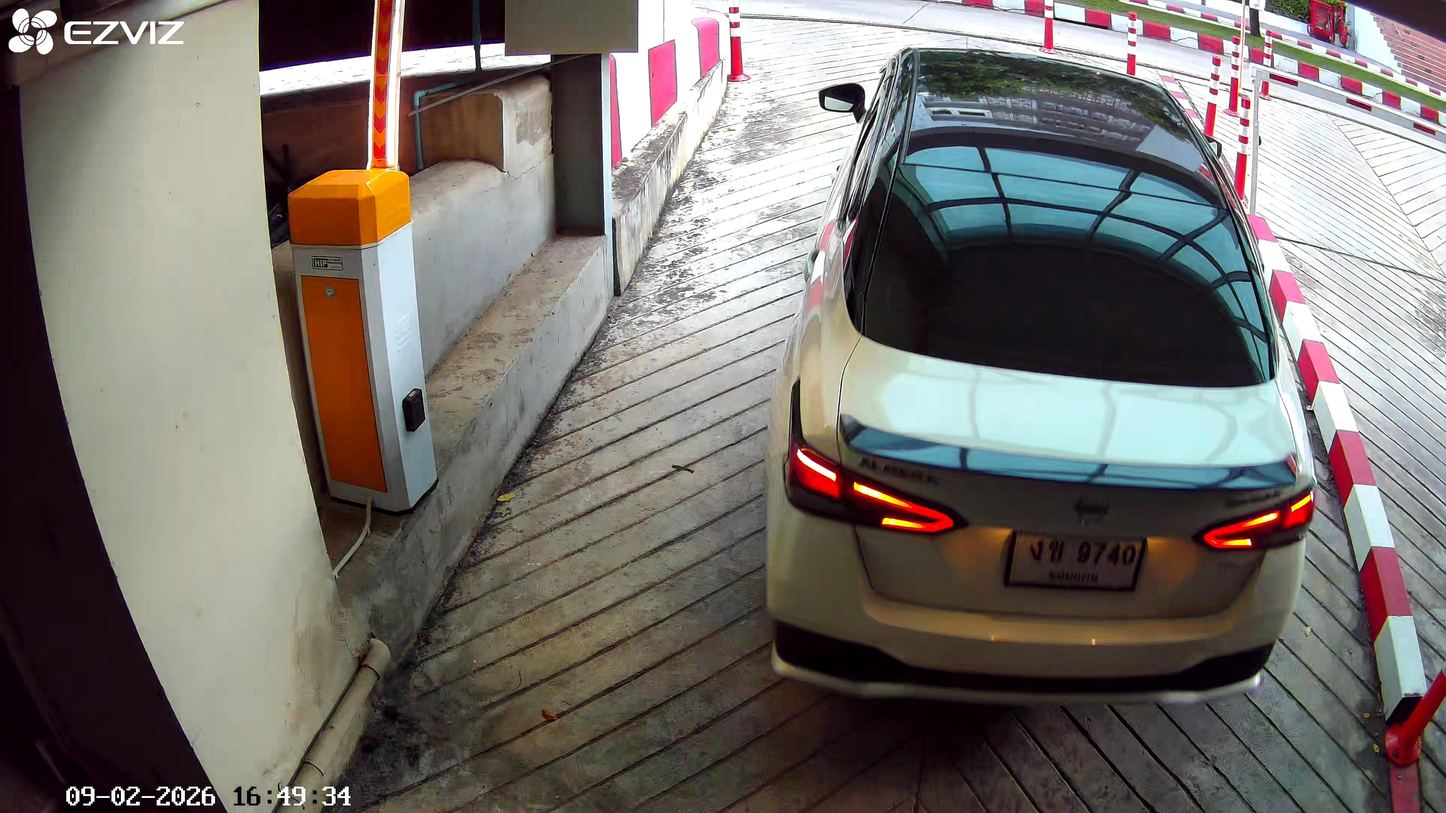car: (764, 28, 1316, 711)
license-plate: (1000, 528, 1149, 595)
